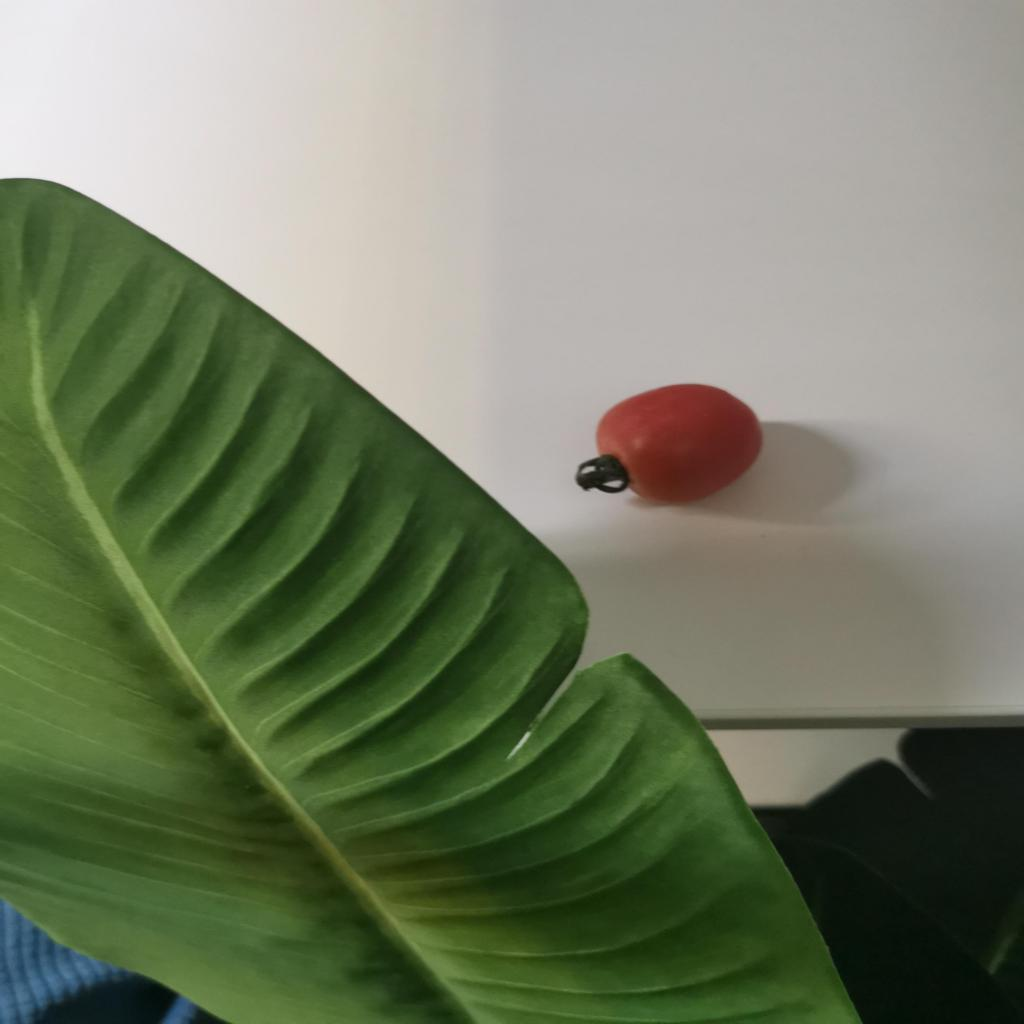tomato: (587, 390, 766, 500)
